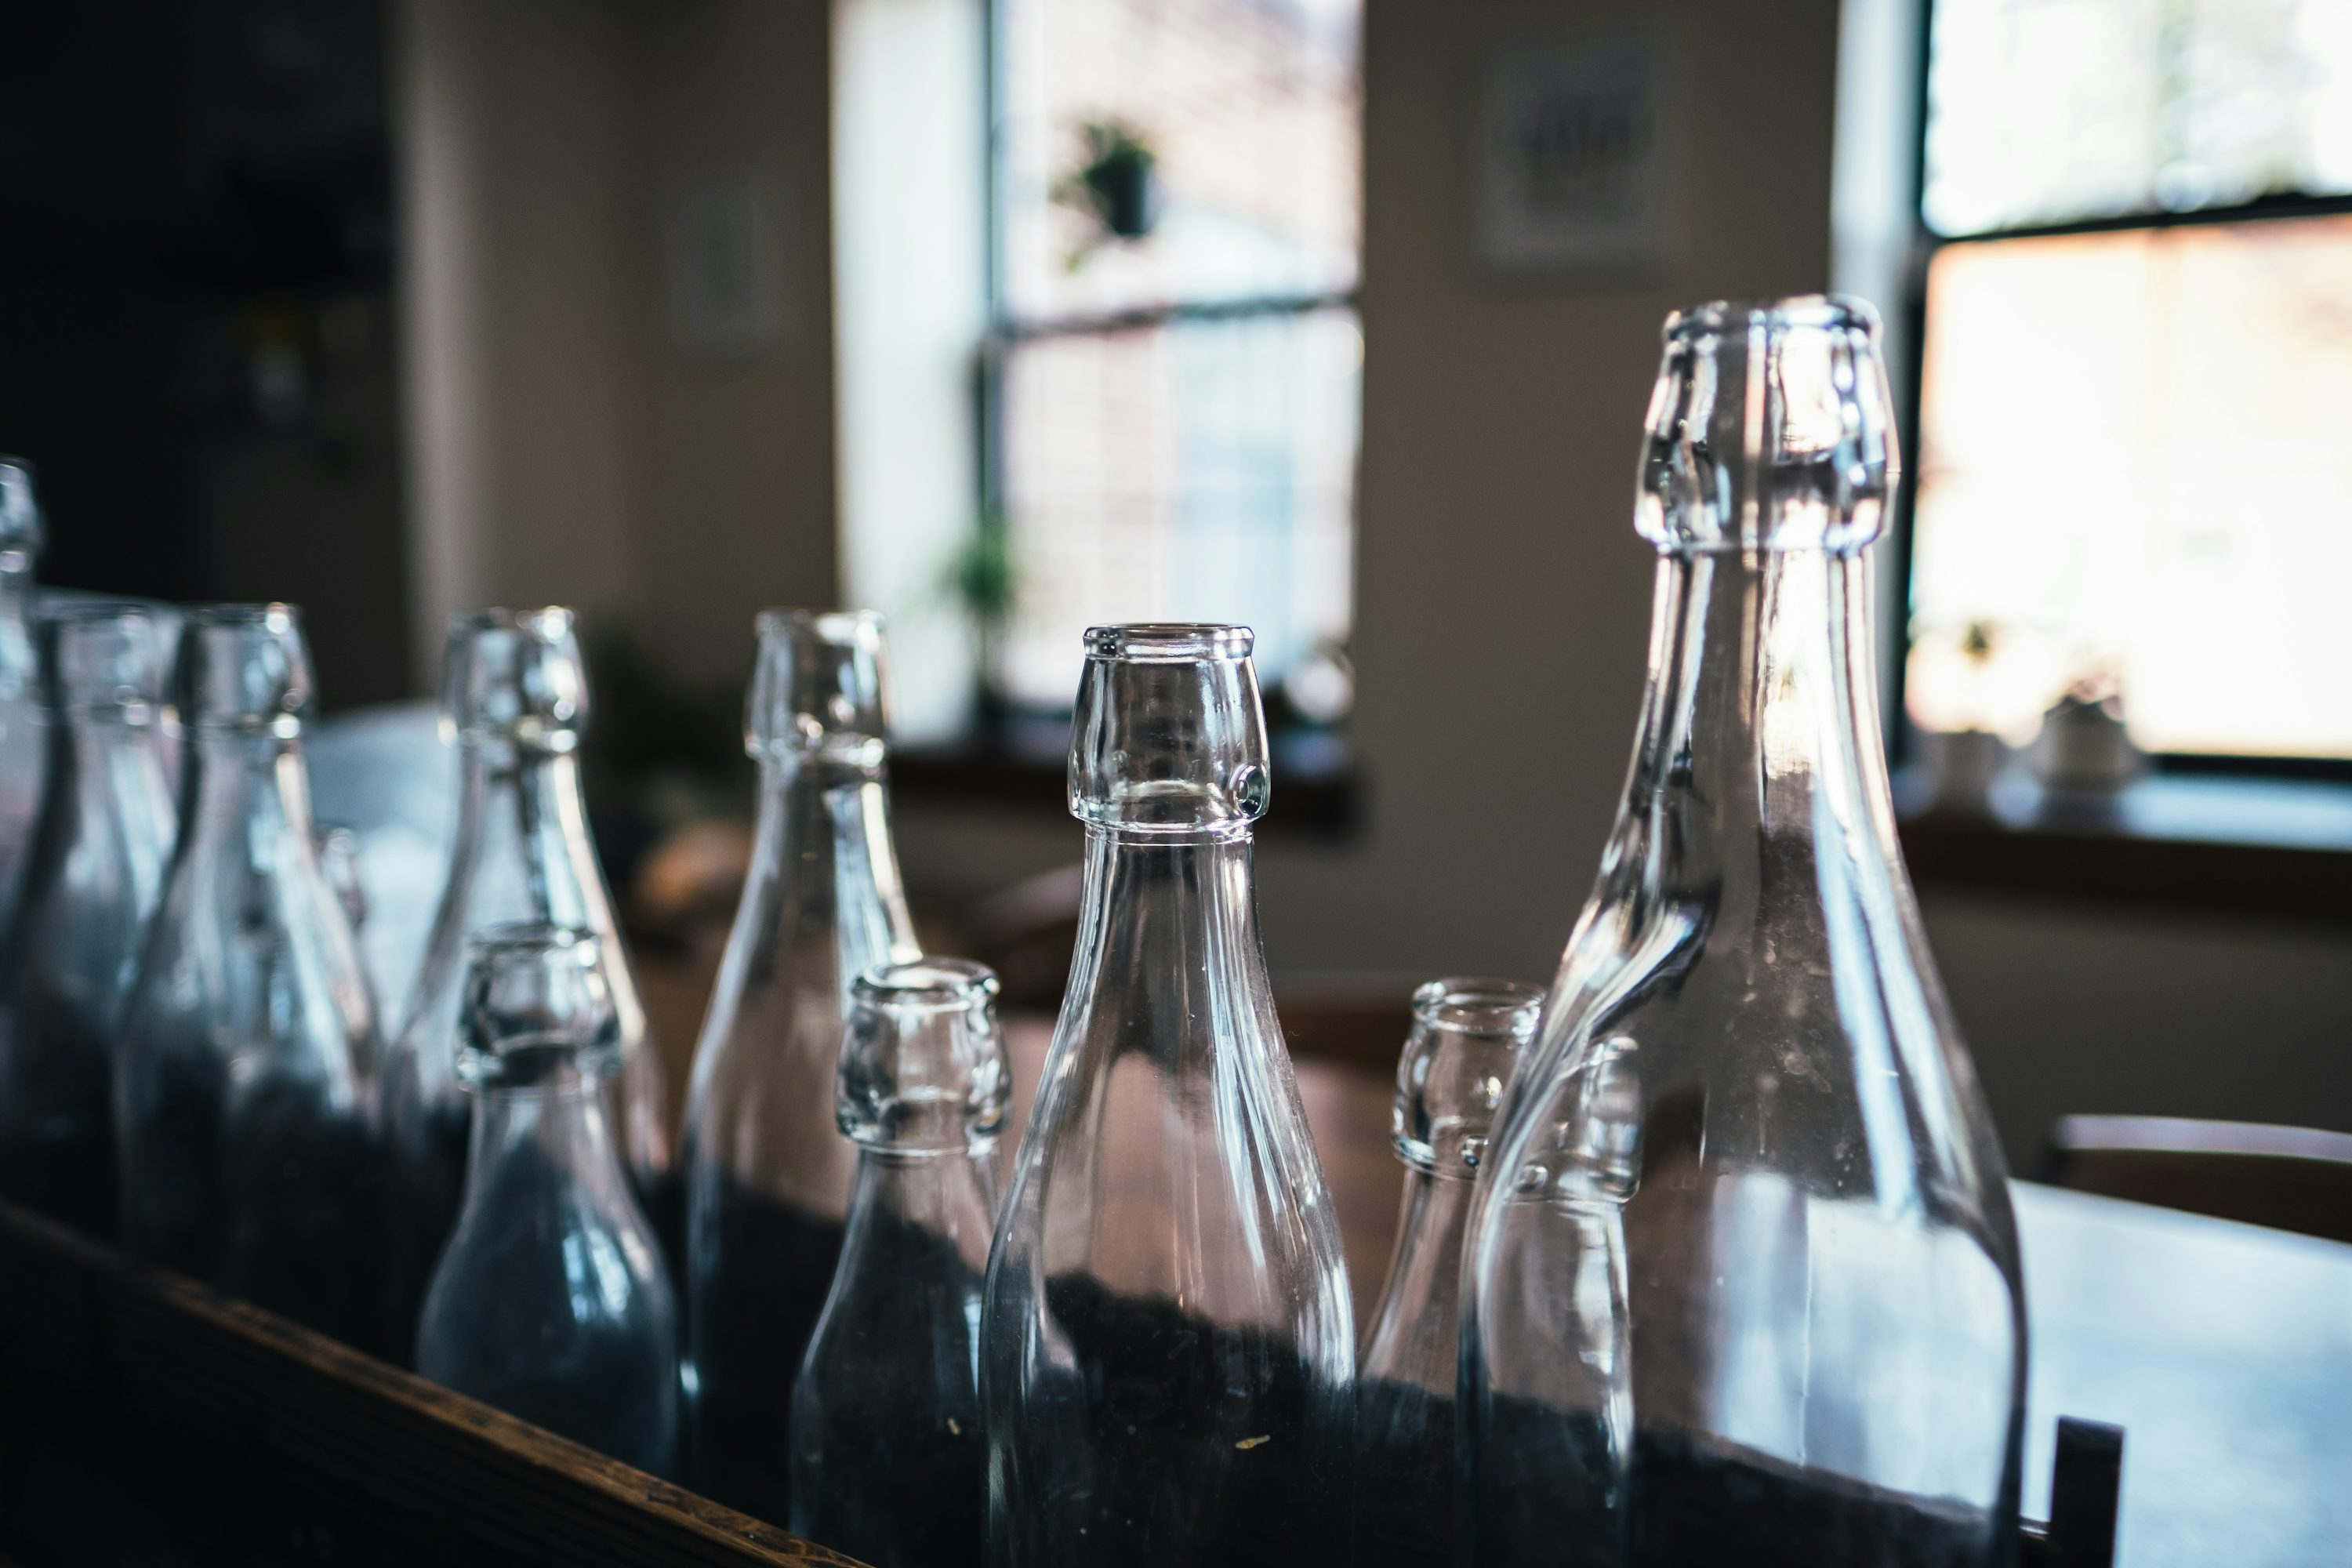glass_bottle: (23, 266, 2039, 1556)
